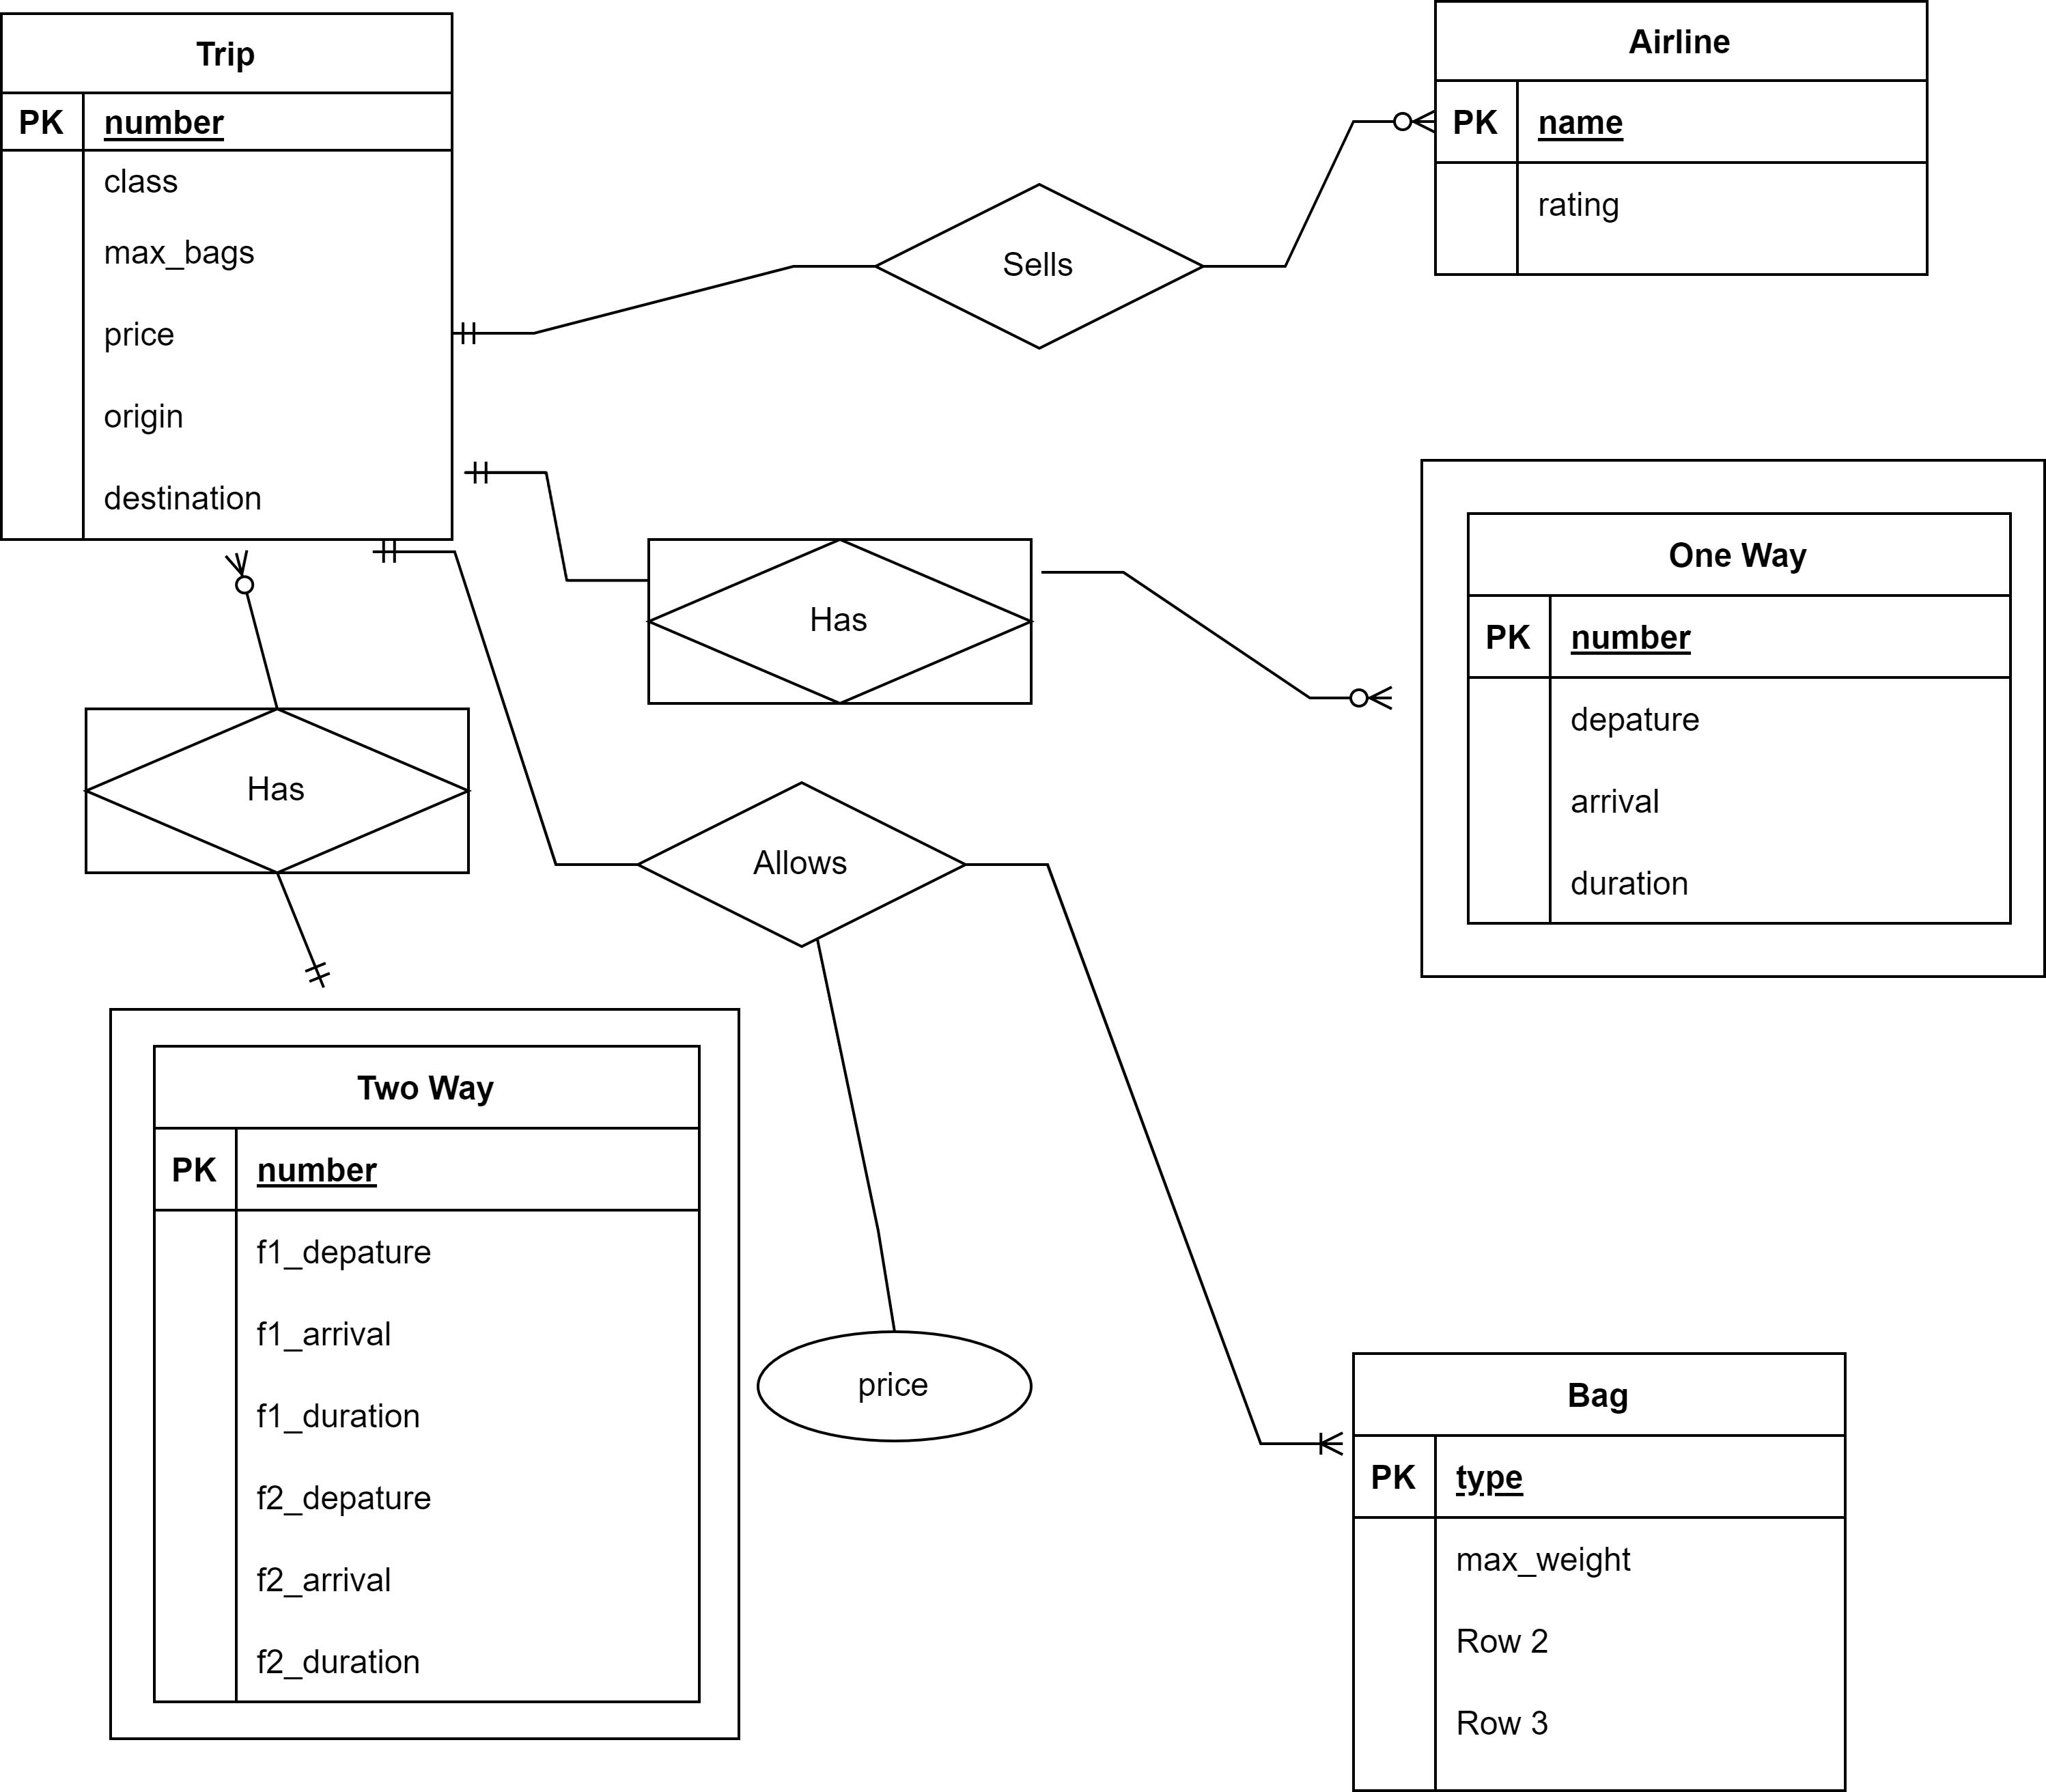attribute: (757, 1329, 1032, 1444)
entity: (0, 7, 458, 545), (1347, 1348, 1848, 1792), (1428, 0, 1942, 284)
relationship: (875, 186, 1200, 348), (639, 785, 962, 945)
weakentity: (101, 1004, 745, 1745), (1416, 451, 2046, 985)
weakrelationship: (639, 529, 1035, 712), (80, 701, 475, 879)
